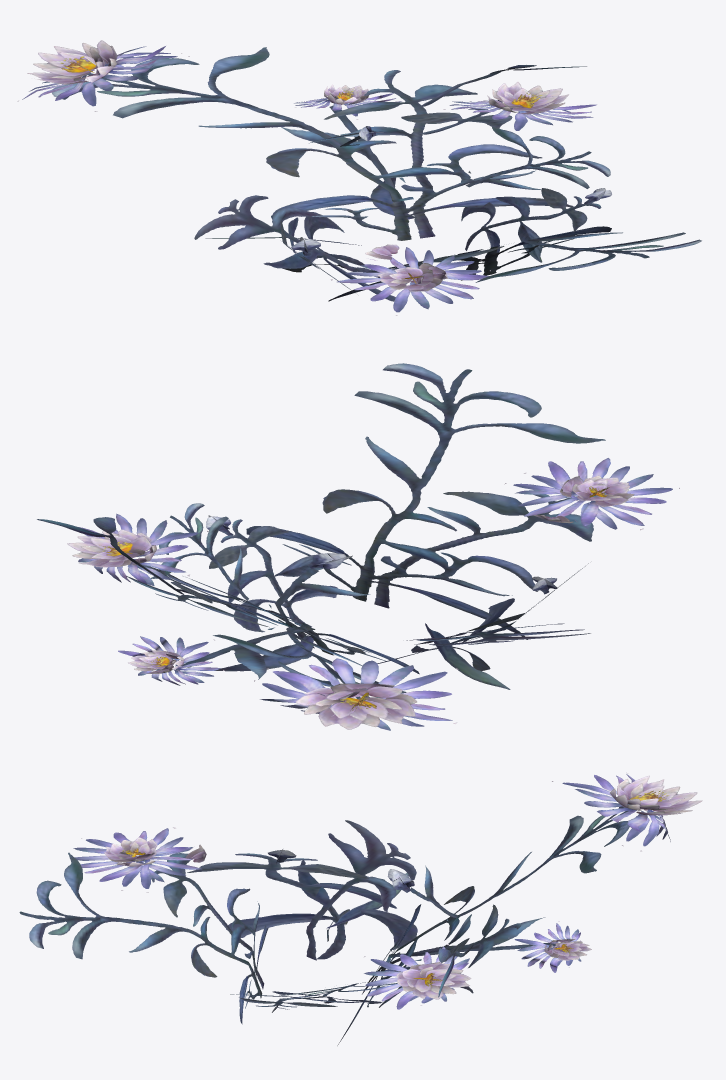
Rendered from Yland2_zb_01 Yland2.FBX.
3 renders of one model, top to bottom at view 1: azimuth 30°, elevation 25°; view 2: azimuth 150°, elevation 25°; view 3: azimuth 270°, elevation 25°, orthographic. The views are drawn at different scales.
Visible parts, largest first — view 1: Yland2_zb_01 Yland2; view 2: Yland2_zb_01 Yland2; view 3: Yland2_zb_01 Yland2.
Boxes of the visible parts, box(x1,y1,x2,y2) form: Yland2_zb_01 Yland2: box(17, 40, 701, 315); Yland2_zb_01 Yland2: box(37, 363, 679, 730); Yland2_zb_01 Yland2: box(19, 772, 702, 1045).
Size of the model in its own units: 8.71 by 2.05 by 10.95.
